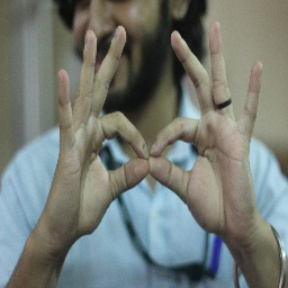B: (86, 107, 215, 206)
